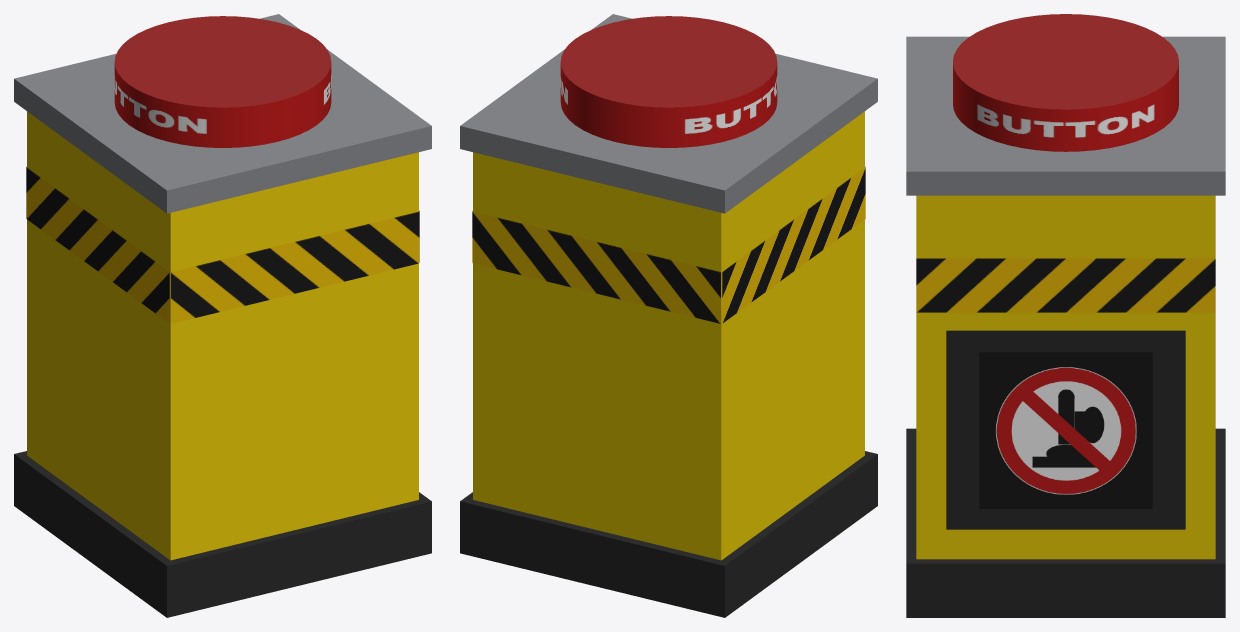
The model's file is SM_DangerButton_Body.fbx.
The picture shows the model from 3 angles, left to right: view 1: azimuth 30°, elevation 25°; view 2: azimuth 150°, elevation 25°; view 3: azimuth 270°, elevation 25°; orthographic projection. The views are drawn at different scales.
Visible parts, largest first — view 1: SM_DangerButton_Body; view 2: SM_DangerButton_Body; view 3: SM_DangerButton_Body.
Boxes of the visible parts, x1,y1,x2,y2 form: SM_DangerButton_Body: (14,14,431,617); SM_DangerButton_Body: (460,14,877,617); SM_DangerButton_Body: (906,14,1225,617).
Bounding box in the file's own units: 96 × 162 × 96.
7 materials, 3 textured.
